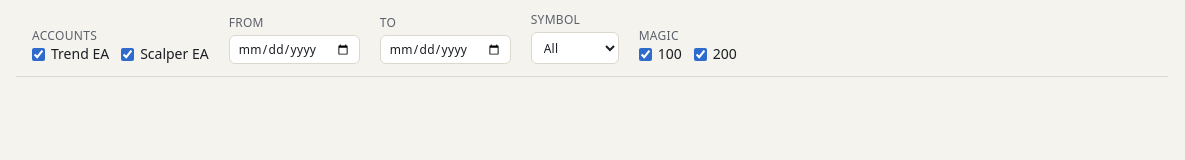
magic and symbol options are scoped to the selected accounts
Expected: the checkbox labelled "200" is shown, x1=694 y1=48 x2=707 y2=61
Click the checkbox labelled "Scalper EA" at (128, 54), box x1=121 y1=48 x2=134 y2=61
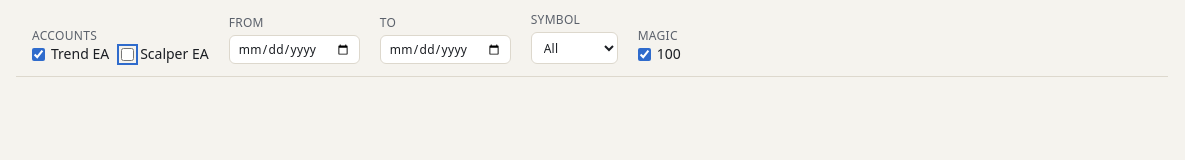
Result: the label "200" is gone
